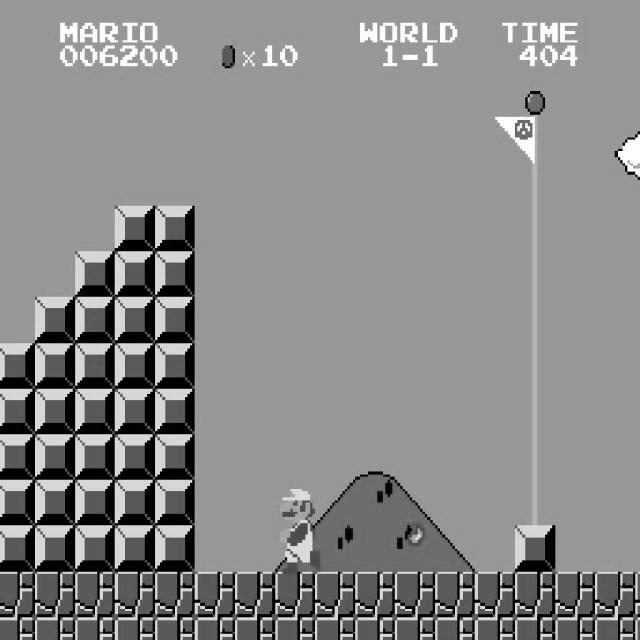17- undestructible_block: (34, 572, 76, 618), (74, 572, 116, 618), (114, 572, 156, 618), (154, 572, 196, 618), (194, 572, 236, 618), (234, 572, 276, 618), (274, 572, 316, 618), (314, 572, 356, 618), (354, 572, 396, 618), (394, 572, 436, 618), (434, 572, 476, 618), (474, 572, 516, 618), (514, 572, 556, 618), (554, 572, 596, 618), (594, 572, 636, 618), (0, 572, 35, 618), (34, 617, 76, 640), (74, 617, 116, 640), (114, 617, 156, 640), (154, 617, 196, 640), (194, 617, 236, 640), (234, 617, 276, 640), (274, 617, 316, 640), (314, 617, 356, 640), (354, 617, 396, 640), (394, 617, 436, 640), (434, 617, 476, 640), (474, 617, 516, 640), (514, 617, 556, 640), (554, 617, 596, 640), (594, 617, 636, 640), (0, 617, 35, 640), (635, 572, 640, 618), (635, 617, 640, 640)
4- fire_mario: (277, 480, 320, 574)
5- fireball: (405, 520, 425, 546)
7- goal_pole: (514, 68, 556, 114), (514, 114, 556, 160), (514, 160, 556, 206), (514, 252, 556, 298), (514, 297, 556, 343), (514, 388, 556, 434), (514, 434, 556, 480), (514, 480, 556, 526), (514, 206, 556, 251), (514, 343, 556, 388)
9- hard_block: (34, 297, 76, 343), (34, 388, 76, 434), (34, 434, 76, 480), (34, 480, 76, 526), (34, 526, 76, 572), (74, 252, 116, 298), (74, 297, 116, 343), (74, 388, 116, 434), (74, 434, 116, 480), (74, 480, 116, 526), (74, 526, 116, 572), (114, 252, 156, 298), (114, 297, 156, 343), (114, 388, 156, 434), (114, 434, 156, 480), (114, 480, 156, 526), (114, 526, 156, 572), (154, 252, 196, 298), (154, 297, 196, 343), (154, 388, 196, 434), (154, 434, 196, 480), (154, 480, 196, 526), (154, 526, 196, 572), (514, 526, 556, 572), (34, 343, 76, 388), (74, 343, 116, 388), (114, 206, 156, 251), (114, 343, 156, 388), (154, 206, 196, 251), (154, 343, 196, 388), (0, 388, 35, 434), (0, 434, 35, 480), (0, 480, 35, 526), (0, 526, 35, 572), (0, 343, 35, 388)
